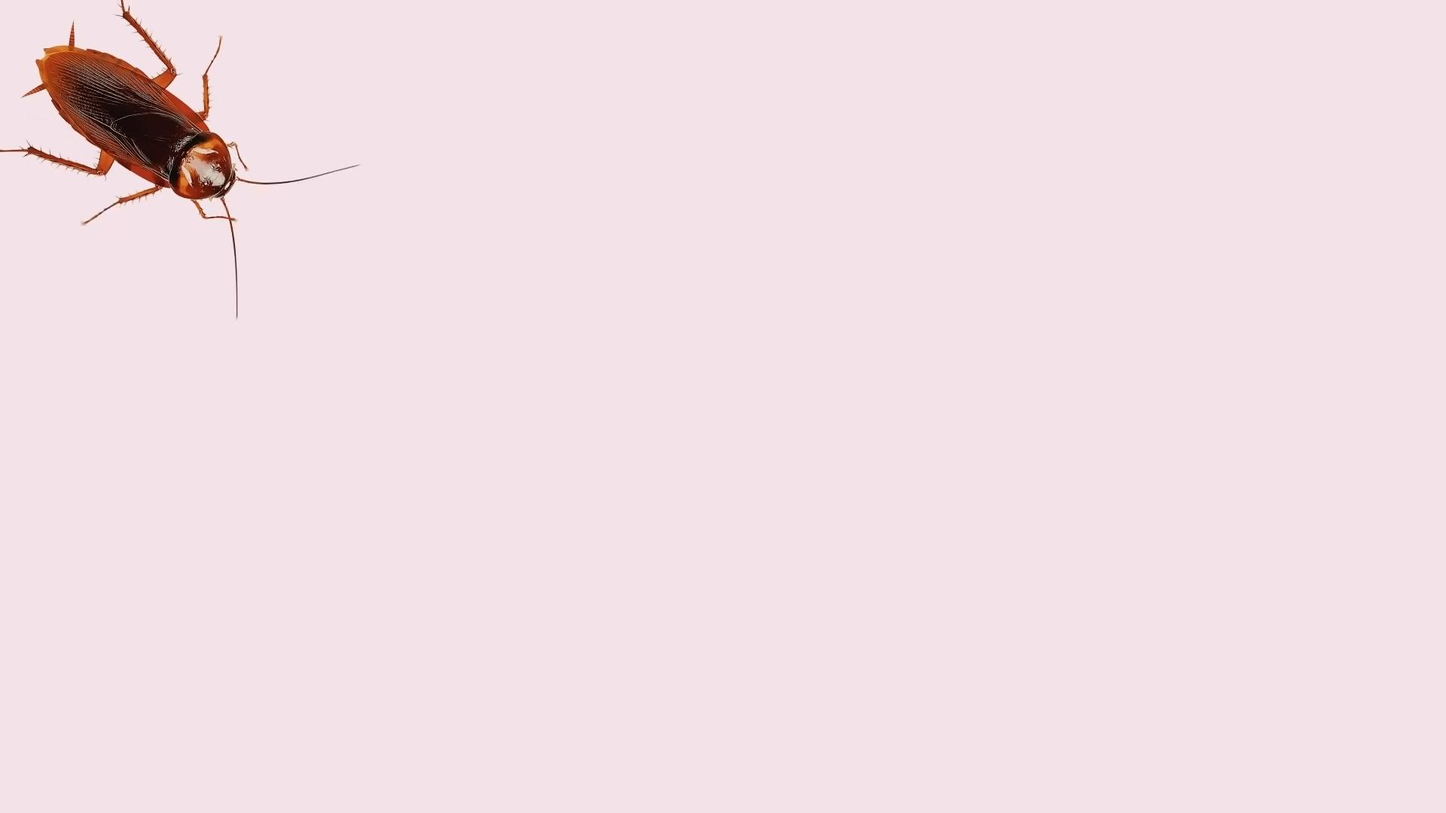cockroach: (0, 0, 280, 255)
